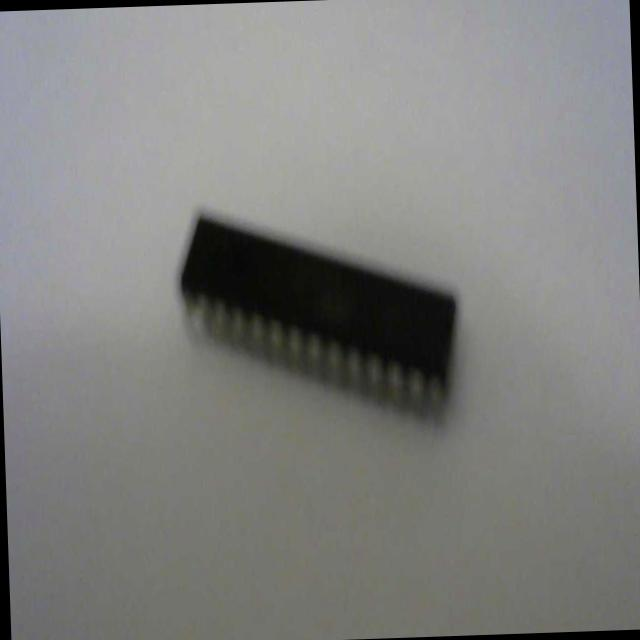atmega: (174, 195, 464, 438)
